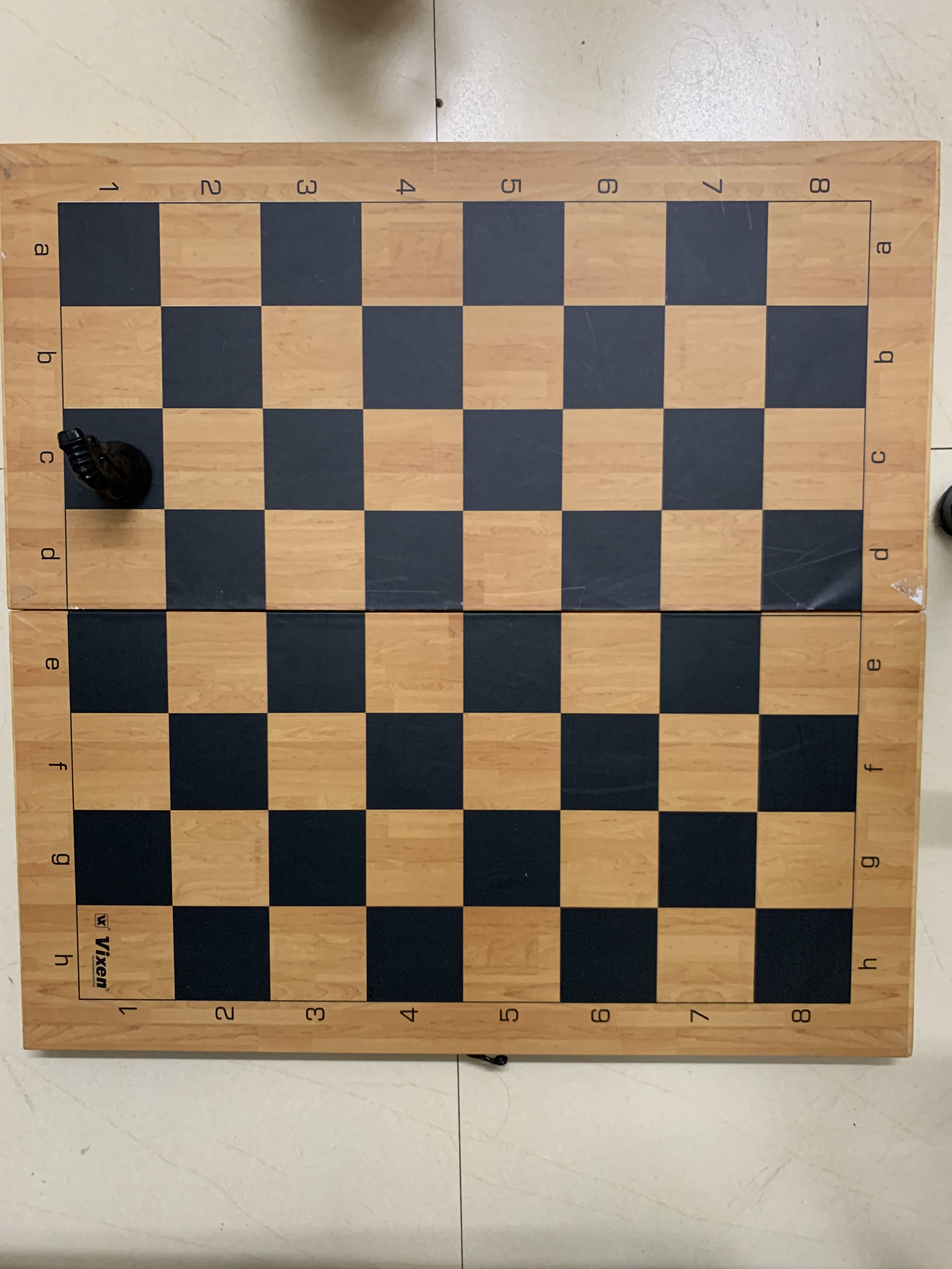black_knight: (50, 419, 167, 505)
